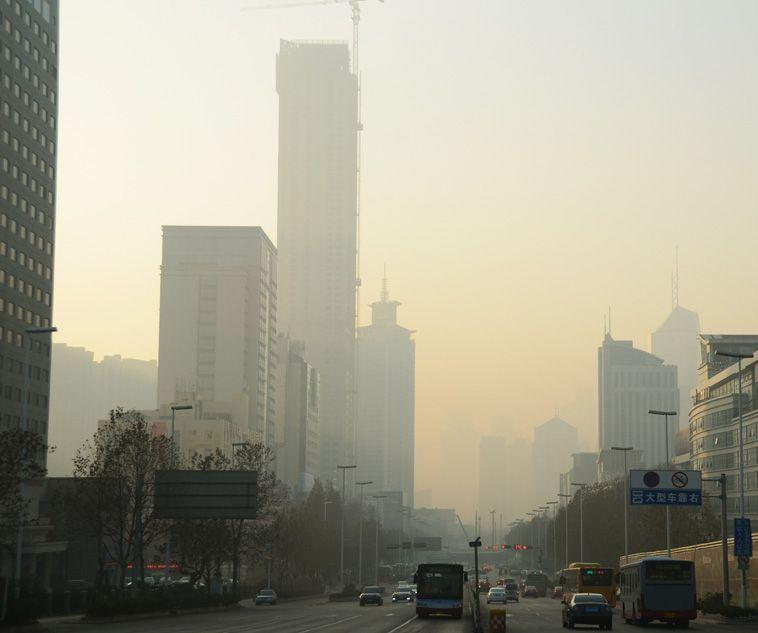bus: (612, 557, 698, 629), (413, 563, 468, 620), (561, 563, 618, 611), (520, 573, 548, 598)
car: (560, 593, 616, 630), (359, 585, 385, 607), (255, 589, 278, 606), (391, 587, 415, 603), (502, 583, 520, 603), (486, 587, 507, 604), (522, 586, 539, 598), (500, 577, 514, 590), (393, 581, 409, 592), (551, 586, 564, 599), (405, 585, 418, 594), (406, 573, 416, 582)
